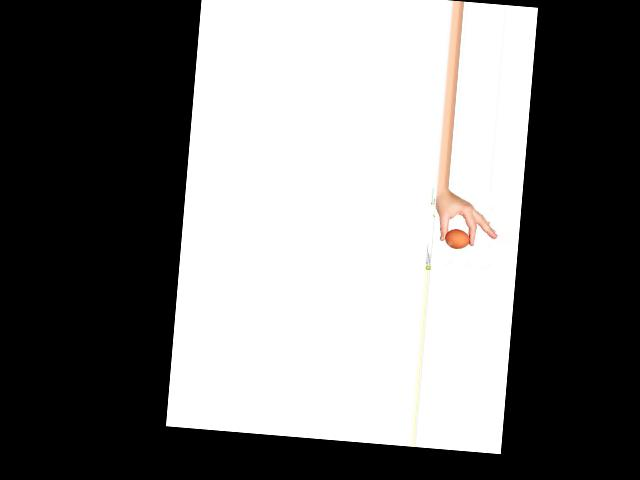egg: (443, 227, 470, 249)
